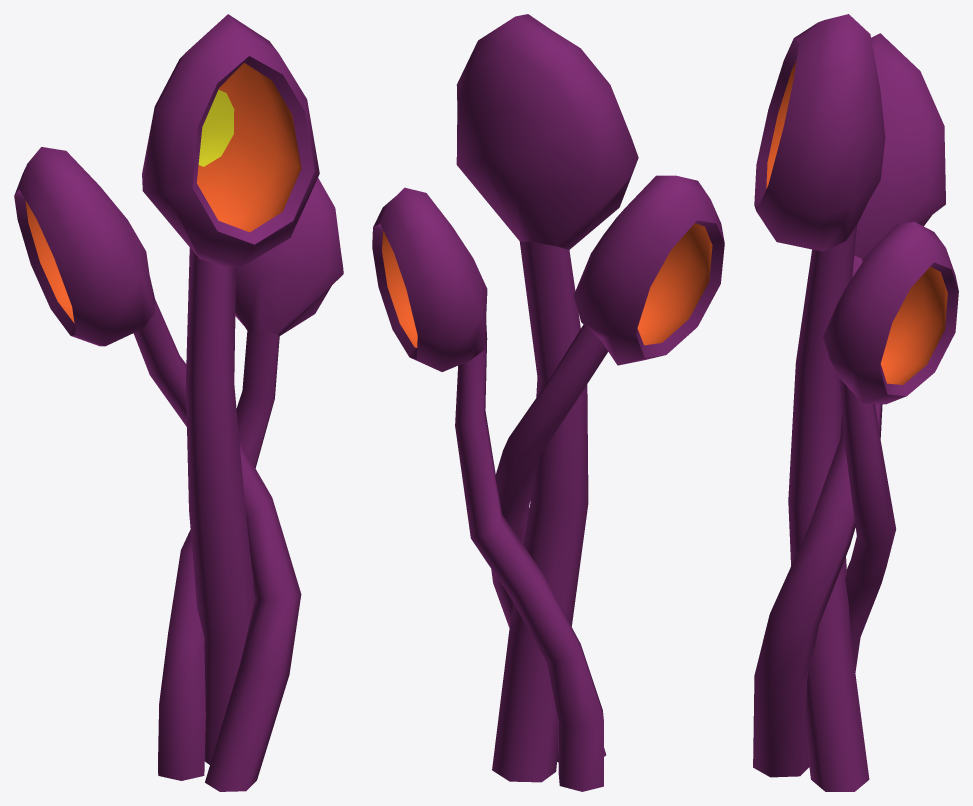
The model's file is Plant_5_purple.fbx.
3 renders of one model, left to right at view 1: azimuth 30°, elevation 25°; view 2: azimuth 150°, elevation 25°; view 3: azimuth 270°, elevation 25°, orthographic. The views are drawn at different scales.
Parts seen in each view (by area): view 1: Plant_5_purple; view 2: Plant_5_purple; view 3: Plant_5_purple.
Boxes of the visible parts, <box> form: Plant_5_purple: <box>14,14,343,791</box>; Plant_5_purple: <box>372,14,724,791</box>; Plant_5_purple: <box>753,14,958,791</box>.
Bounding box in the file's own units: 1.27 × 2.87 × 0.6971.
